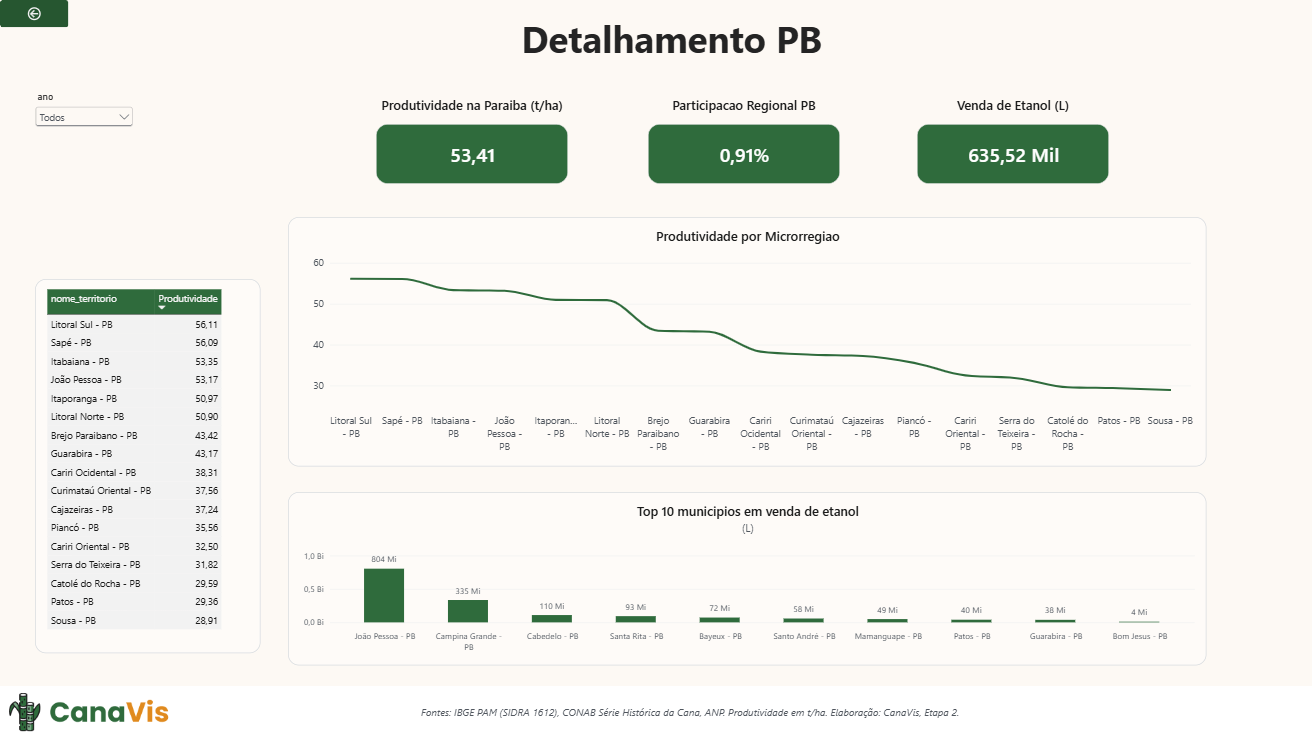

This screenshot's page, from the dashboard's own definition file:
{"tool":"powerbi","page":{"name":"Detalhe Municipios/Microregioes PB","canvas":[1920,1080],"ordinal":2},"visuals":[{"type":"textbox","box":[200.5,18.8,1559.8,97.1],"z":0},{"type":"tableEx","fields":{"Values":["dim_territorio.nome_territorio","fato_producao.Produtividade"]},"box":[88,317.3,296,486.7],"z":1000},{"type":"cardVisual","title":"Produtividade na Paraiba (t/ha)","fields":{"Data":["fato_producao_uf.Produtividade (UF)"]},"box":[549.2,140.4,280.1,128.4],"z":2000},{"type":"cardVisual","title":"Participacao Regional PB","fields":{"Data":["fato_producao.Participação regional"]},"box":[946,140.4,280.1,128.4],"z":3000},{"type":"cardVisual","title":"Venda de Etanol (L)","fields":{"Data":["Avg(fato_vendas_etanol_municipio.vendas_etanol_hidratado_l)"]},"box":[1338.5,140.4,280.1,128.4],"z":4000},{"type":"lineChart","title":"Produtividade por Microrregiao","fields":{"Category":["dim_territorio.nome_territorio"],"Y":["fato_producao.Produtividade"]},"box":[420.4,317.1,1339.8,363.8],"z":5000},{"type":"actionButton","box":[0,0,100,40],"z":6000},{"type":"clusteredColumnChart","title":"Top 10 municipios em venda de etanol","fields":{"Category":["dim_territorio.nome_territorio"],"Y":["fato_vendas_etanol_municipio.Vendas etanol municípios validados (L)"]},"box":[420.4,717.8,1339.8,253.2],"z":7000},{"type":"textbox","box":[614.2,1028.6,818.5,30.6],"z":8000},{"type":"actionButton","box":[1722.7,1020,137.3,34.7],"z":9000},{"type":"slicer","fields":{"Values":["dim_calendario.ano"]},"box":[96,201.3,207.6,66.2],"z":10000}]}

Visuals, with their boxes in screenshot pixels (x1, y1, x2, y2), scaled from the page's 1920x1080 canvas onto the 1312x739 screenshot:
textbox: <box>137,13,1203,79</box>
tableEx - dim_territorio.nome_territorio x fato_producao.Produtividade: <box>60,217,262,550</box>
"Produtividade na Paraiba (t/ha)" cardVisual: <box>375,96,567,184</box>
"Participacao Regional PB" cardVisual: <box>646,96,838,184</box>
"Venda de Etanol (L)" cardVisual: <box>915,96,1106,184</box>
"Produtividade por Microrregiao" lineChart: <box>287,217,1203,466</box>
actionButton: <box>0,0,68,27</box>
"Top 10 municipios em venda de etanol" clusteredColumnChart: <box>287,491,1203,664</box>
textbox: <box>420,704,979,725</box>
actionButton: <box>1177,698,1271,722</box>
slicer - dim_calendario.ano: <box>66,138,207,183</box>
